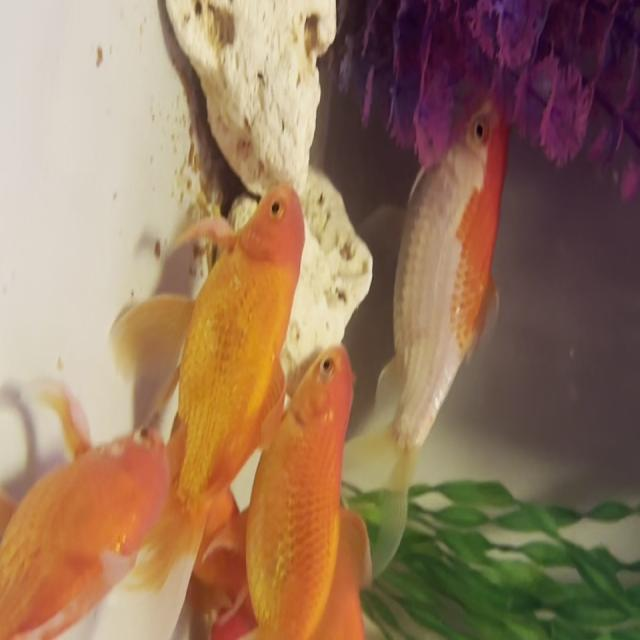fish: (336, 90, 502, 571), (138, 175, 305, 546), (184, 339, 358, 640), (0, 411, 177, 640), (218, 160, 372, 398)
